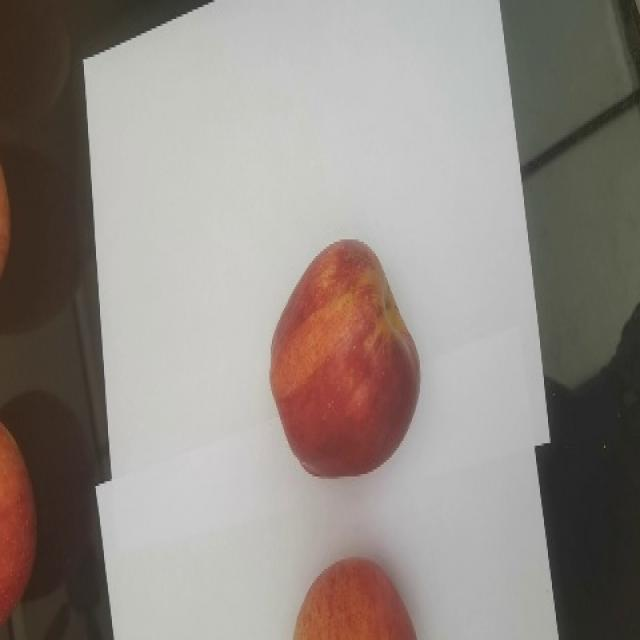Apple: (269, 238, 421, 477), (292, 555, 418, 639), (0, 419, 38, 627)
